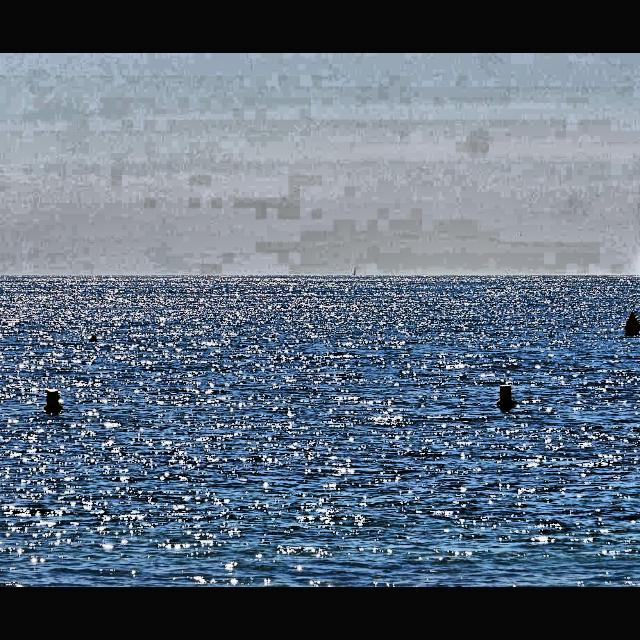buoy: (44, 387, 64, 417), (496, 384, 518, 410), (624, 310, 640, 338)
